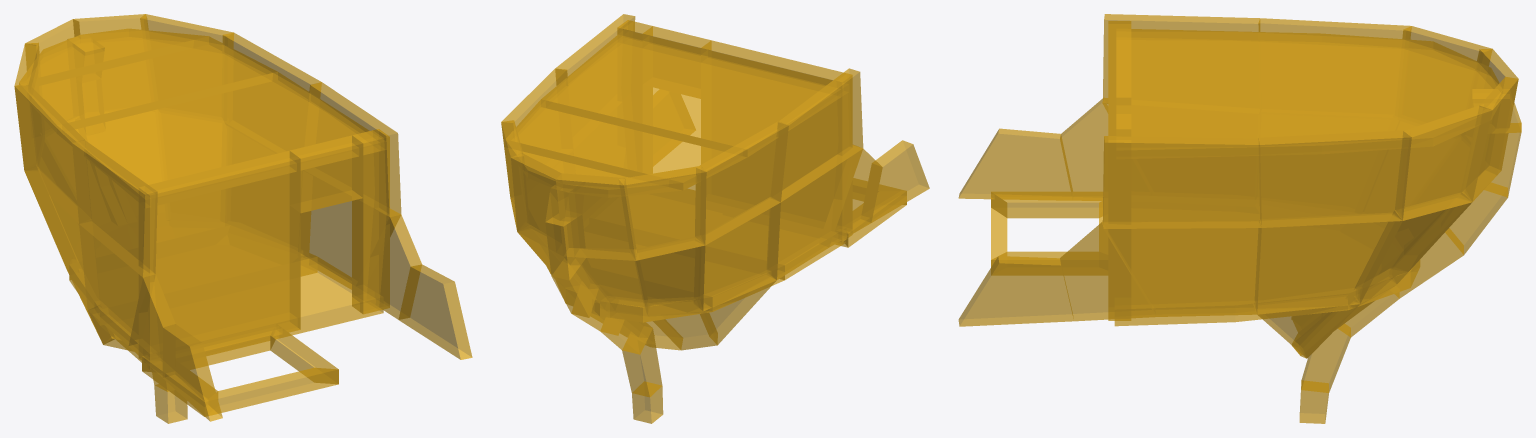
File: SM_Veh_Ship_S_Back_01_Collision.fbx
The picture shows the model from 3 angles, left to right: view 1: azimuth 30°, elevation 25°; view 2: azimuth 150°, elevation 25°; view 3: azimuth 270°, elevation 25°; orthographic projection. The views are drawn at different scales.
Visible parts, largest first — view 1: SM_Veh_Ship_S_Back_01_Collision; view 2: SM_Veh_Ship_S_Back_01_Collision; view 3: SM_Veh_Ship_S_Back_01_Collision.
Boxes of the visible parts, x1,y1,x2,y2 form: SM_Veh_Ship_S_Back_01_Collision: [14, 14, 472, 423]; SM_Veh_Ship_S_Back_01_Collision: [501, 14, 929, 423]; SM_Veh_Ship_S_Back_01_Collision: [958, 14, 1521, 423].
Size of the model in its own units: 537 by 636 by 948.
